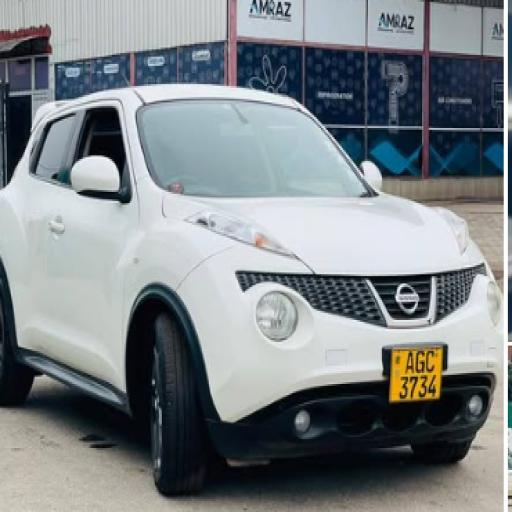number-plates: (391, 345, 441, 401)
